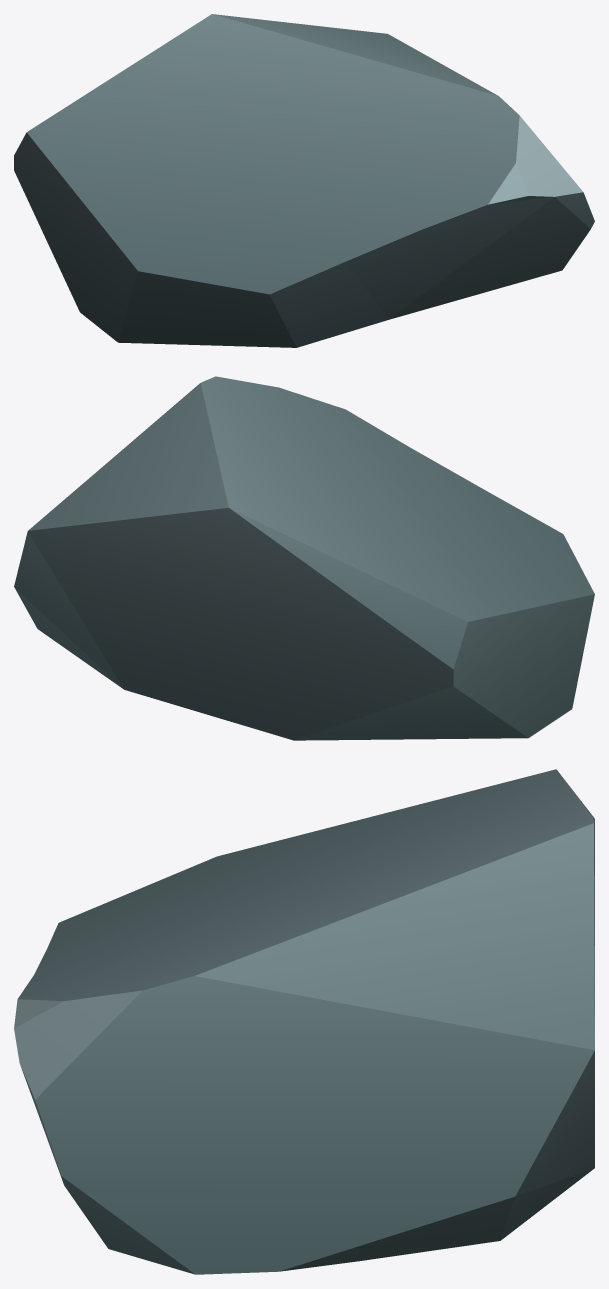
File: Stone_03.fbx
3 renders of one model, top to bottom at view 1: azimuth 30°, elevation 25°; view 2: azimuth 150°, elevation 25°; view 3: azimuth 270°, elevation 25°, orthographic. The views are drawn at different scales.
Parts seen in each view (by area): view 1: Cube.230; view 2: Cube.230; view 3: Cube.230.
Boxes of the visible parts, x1,y1,x2,y2 form: Cube.230: (14,14,594,347); Cube.230: (14,376,594,740); Cube.230: (14,769,594,1274).
Bounding box in the file's own units: 132 × 59.69 × 101.
